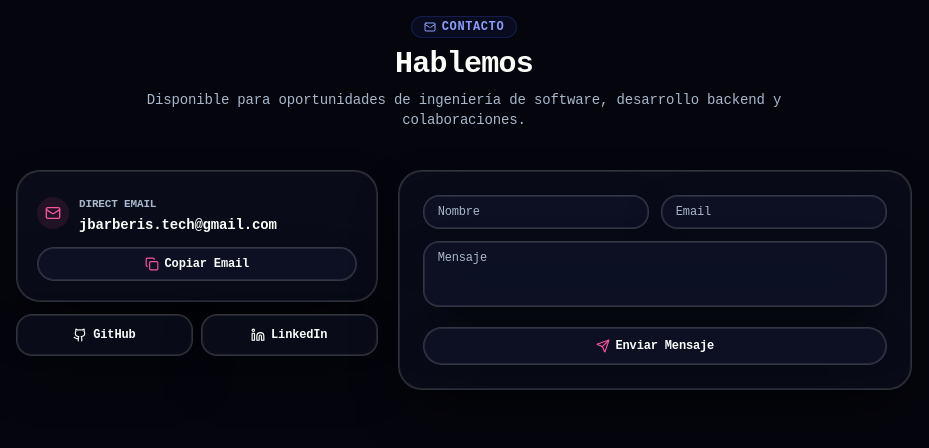
Test: Contact Component (src/components/Contact.tsx) › Form Validation › displays error messages when submitting empty form
Click the button "Enviar Mensaje": (655, 346) [423,327,887,365]
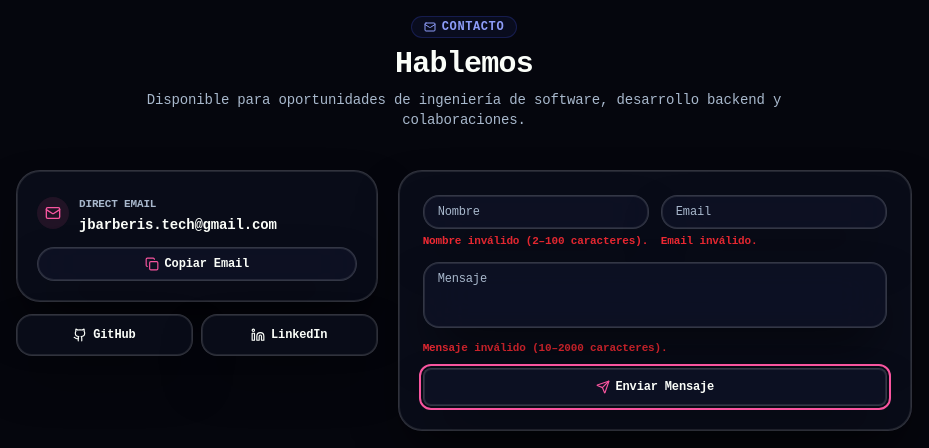
Expected: the text "Nombre inválido (2–100 caracteres)." is shown, [423,233,649,250]
Expected: the text "Email inválido." is shown, [661,235,757,247]
Expected: the text "Mensaje inválido (10–2000 caracteres)." is shown, [423,342,668,354]
